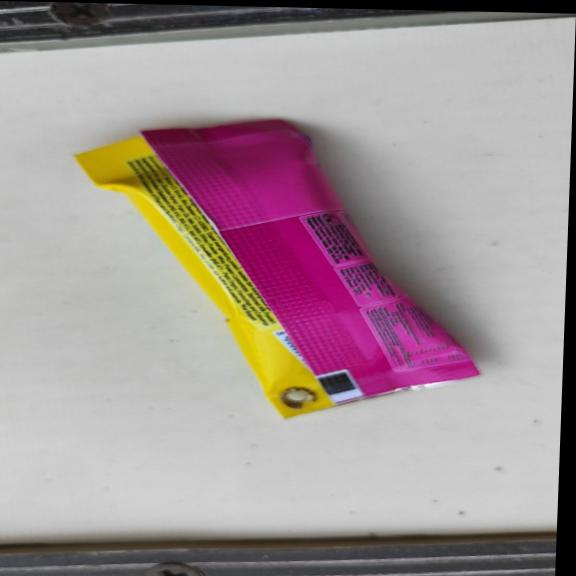Plastik: (63, 112, 492, 424)
